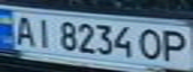2: (75, 20, 96, 55)
3: (93, 21, 115, 57)
4: (112, 24, 136, 58)
8: (54, 18, 78, 52)
A: (9, 12, 39, 47)
I: (30, 16, 57, 48)
O: (136, 26, 166, 61)
P: (157, 27, 193, 63)
